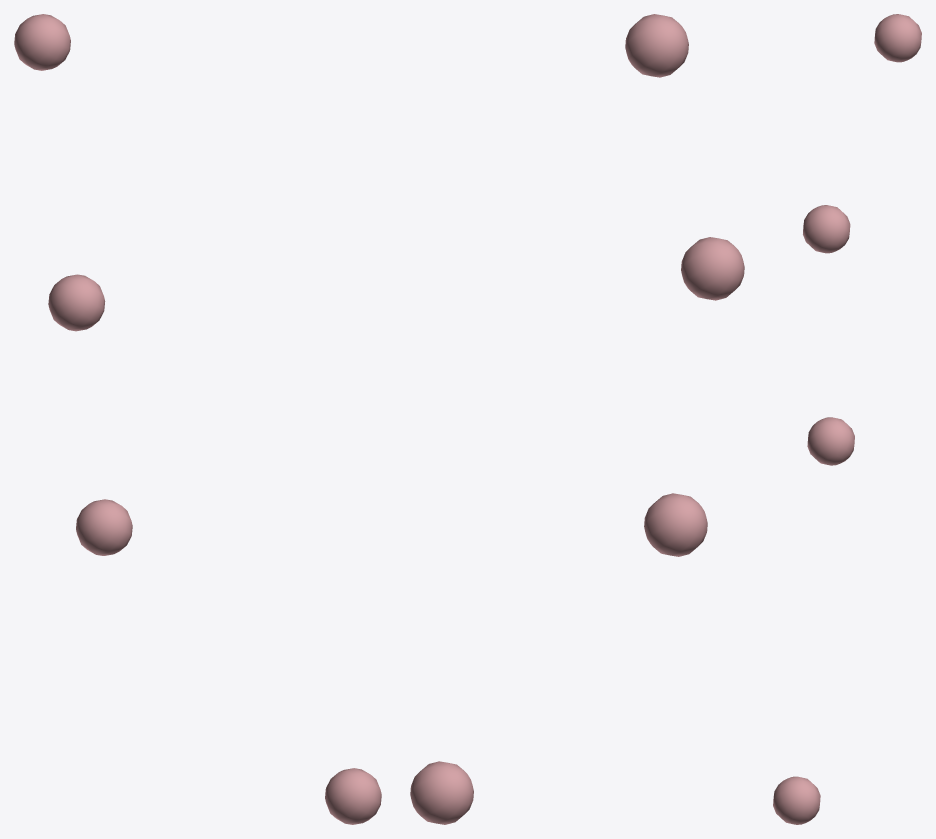
The picture shows the model from 3 angles, left to right: view 1: azimuth 30°, elevation 25°; view 2: azimuth 150°, elevation 25°; view 3: azimuth 270°, elevation 25°; orthographic projection. The views are drawn at different scales.
Visible parts, largest first — view 1: ZA_25de13a9f9f34534; view 2: ZA_25de13a9f9f34534; view 3: ZA_25de13a9f9f34534.
Part boxes in pixels (<box>): ZA_25de13a9f9f34534: <box>14,14,381,824</box>; ZA_25de13a9f9f34534: <box>410,14,744,824</box>; ZA_25de13a9f9f34534: <box>773,14,921,824</box>.
Size of the model in its own units: 0.0161 by 0.0411 by 0.00791.
